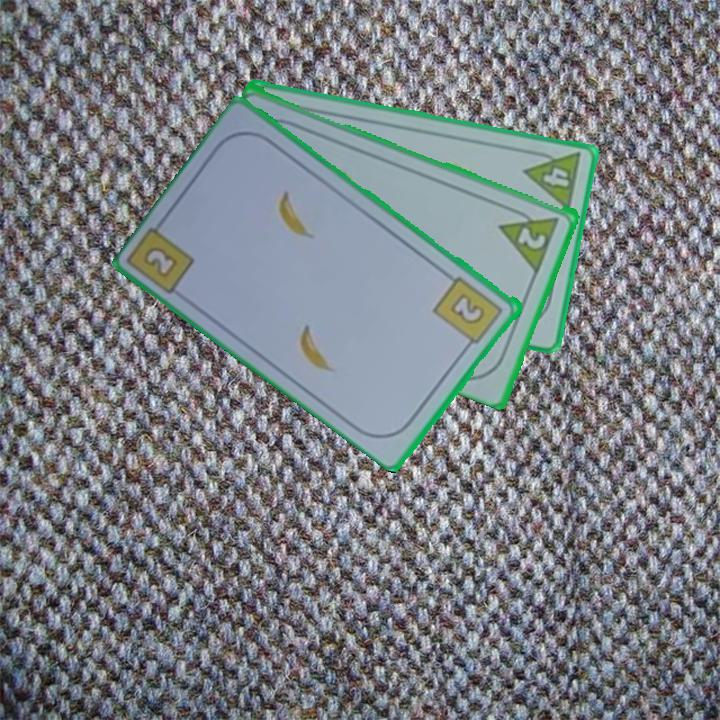2b: (430, 273, 507, 353), (143, 246, 178, 278)
2p: (514, 223, 550, 252)
4p: (521, 145, 584, 214)
